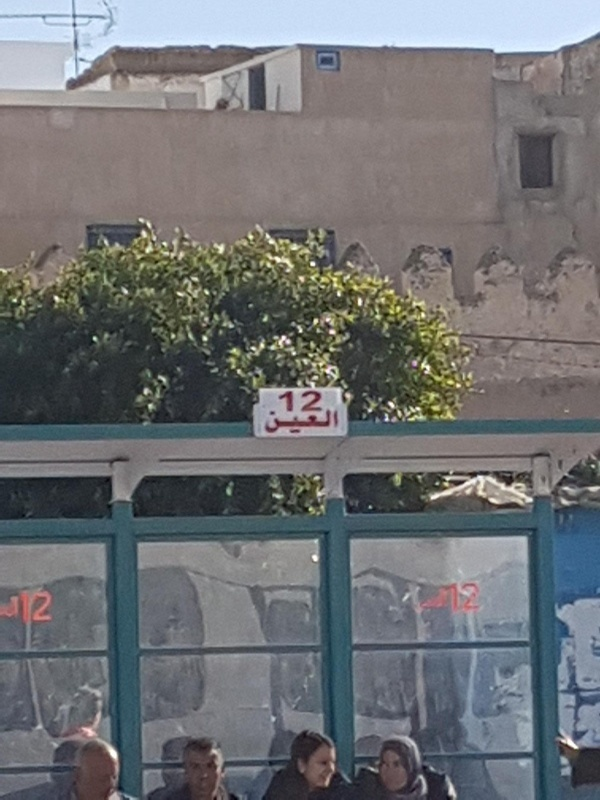text: (465, 582, 481, 614), (33, 590, 48, 624), (449, 582, 464, 614), (19, 590, 32, 624), (273, 408, 288, 434), (289, 408, 304, 434), (305, 408, 320, 434), (321, 408, 336, 434), (289, 390, 304, 412), (305, 390, 320, 412), (264, 408, 272, 434), (280, 390, 288, 412), (49, 590, 54, 624), (337, 408, 342, 434), (321, 390, 324, 412), (446, 582, 448, 614)
